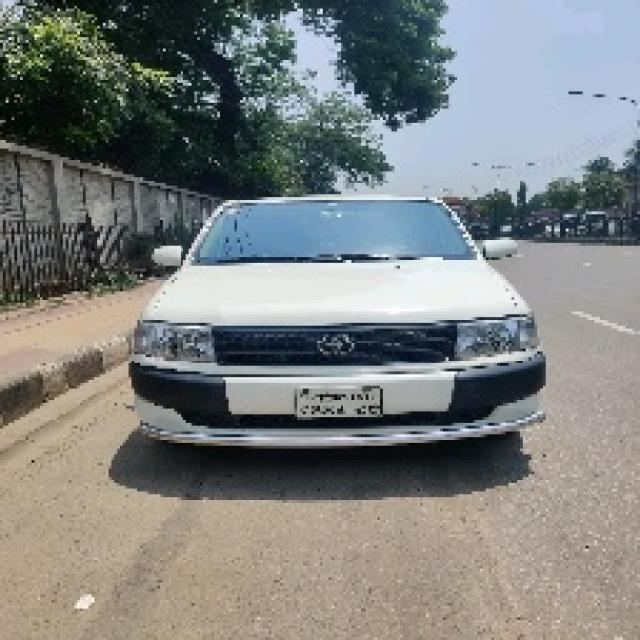car: (108, 177, 551, 464)
